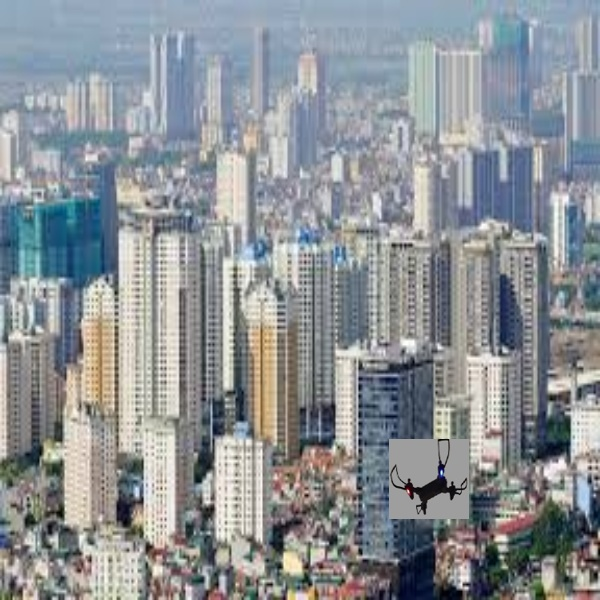drone: (390, 436, 476, 520)
